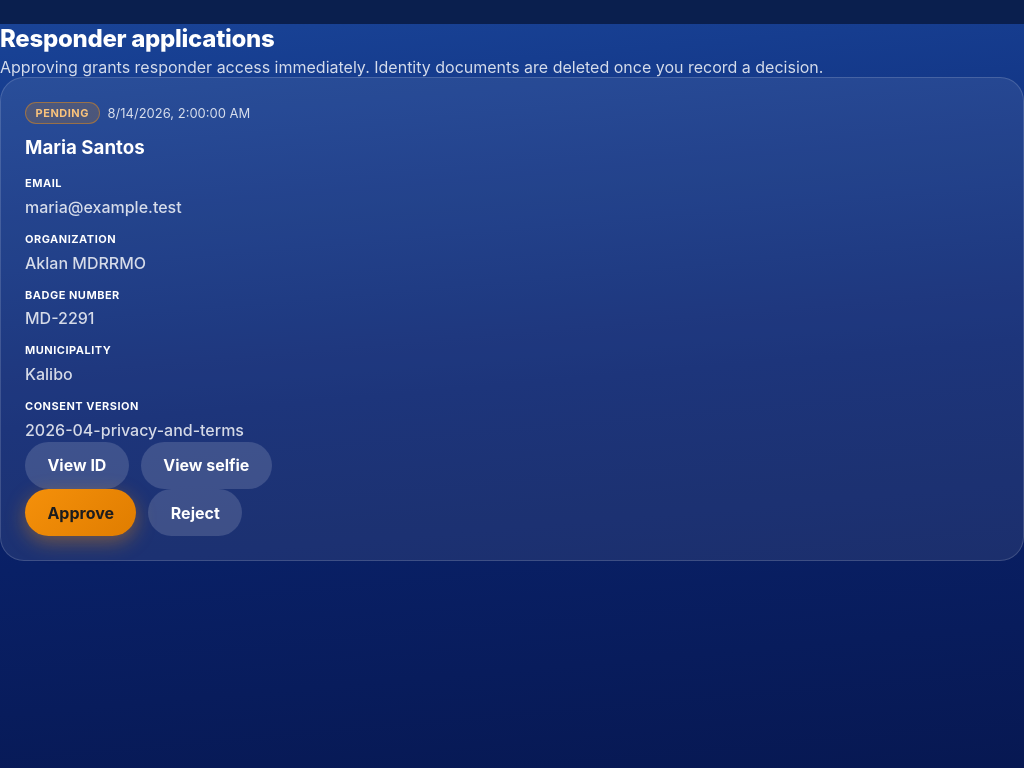
Test: review queue route › warns that approving grants access and deletes documents
This screenshot has width=1024, height=768.
Click the button "Approve". click: (81,513)
box: [25,489,136,536]
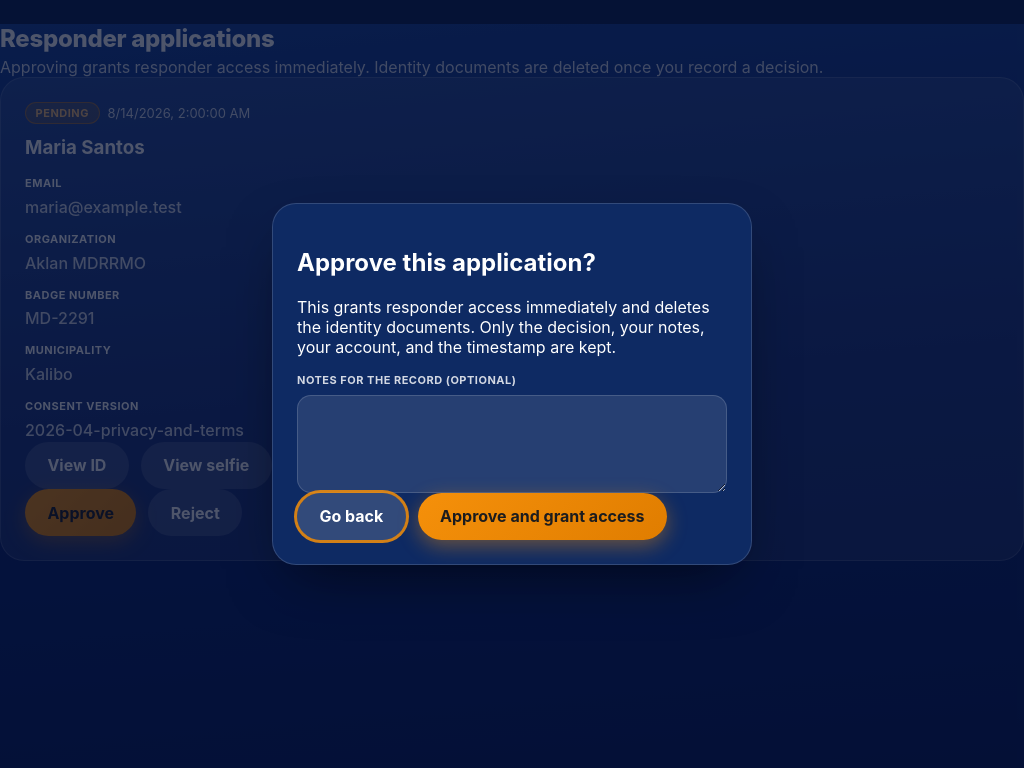
Expected: the text "grants responder access immediately and deletes" is shown, [297,297,710,357]
